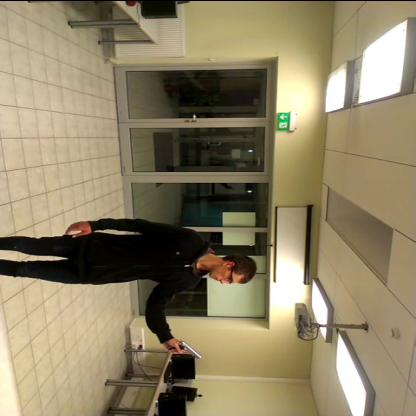Pistol: (166, 336, 210, 364)
